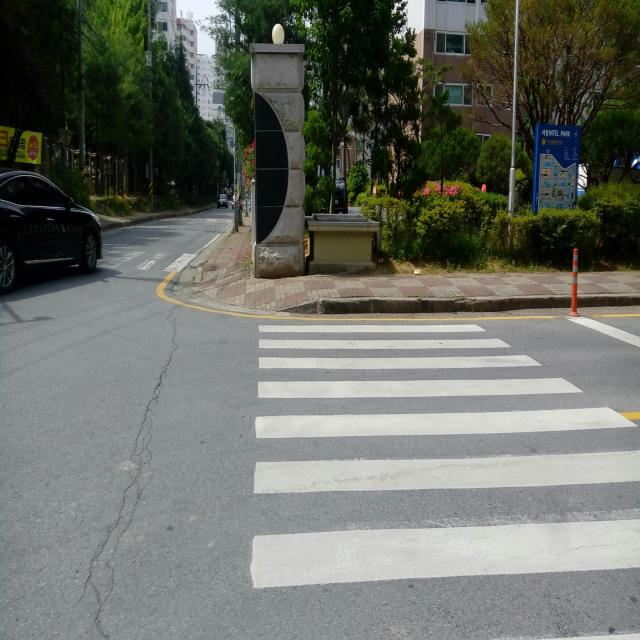횡단보도: (247, 314, 640, 640), (98, 249, 200, 274)
